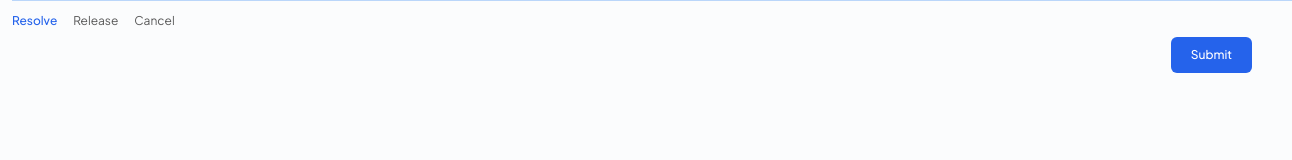
Test: EscalationActionBar › shows parse error for invalid JSON
Click the button "Submit": (1211, 55) [1171,37,1252,73]
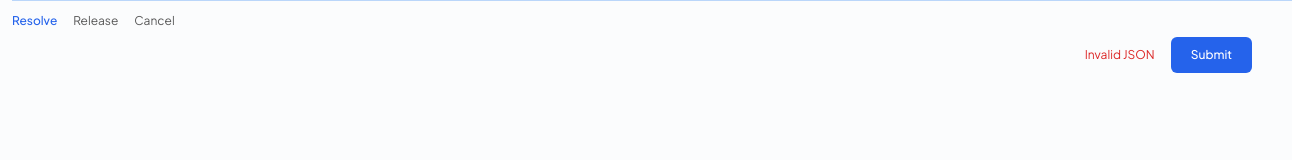
Now the text "Invalid JSON" is shown, box [1085,47,1155,63]
